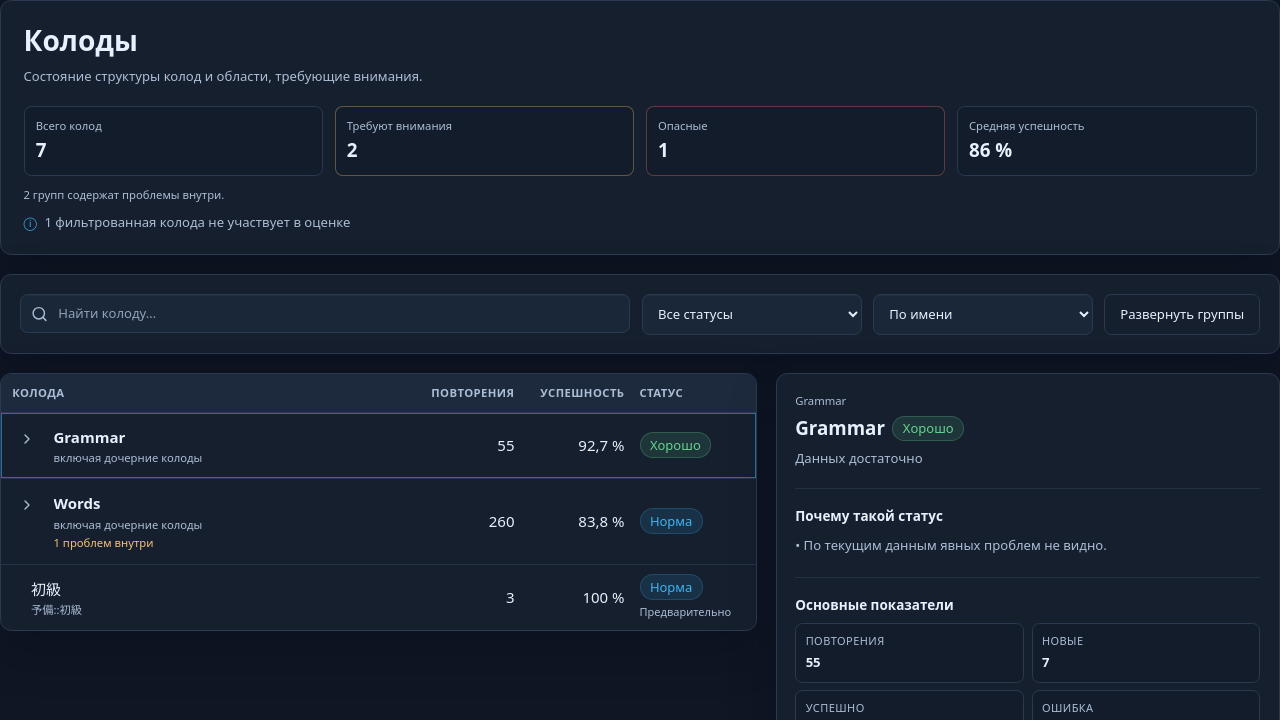
Decks v2 › filters attention/danger/insufficient while retaining ancestors and falls selection back
Step 1. Select "Опасные" in the 1st dropdown → (752, 314), box [642,294,862,335]
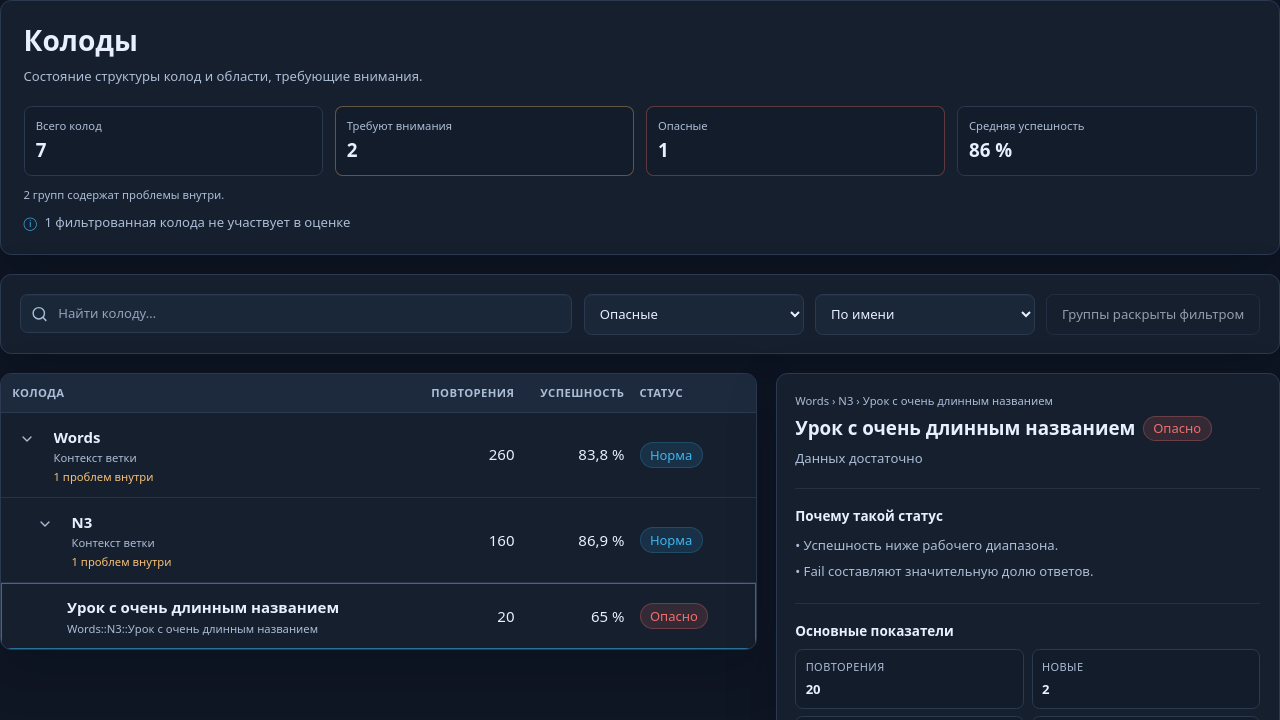
Check: the text "Words" is shown, box [54,427,100,447]
Check: the text "N3" is shown, box [72,512,92,532]
Check: the text "Урок с очень длинным названием" is shown, box [67,596,339,619]
Step 2. Select "Недостаточно данных" in the 1st dropdown → (694, 314), box [584,294,804,335]
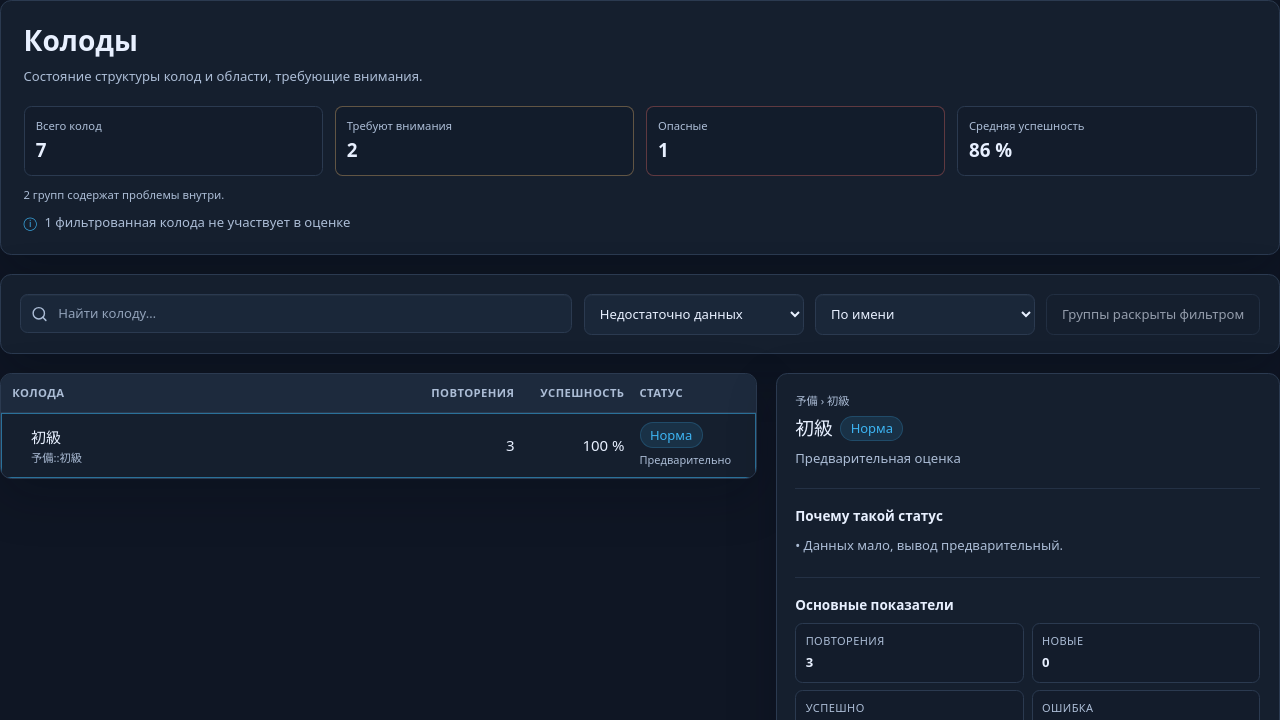
Check: the text "予備" is shown, box [31,450,82,465]
Check: the text "Предварительная оценка" is shown, box [795,449,961,467]
